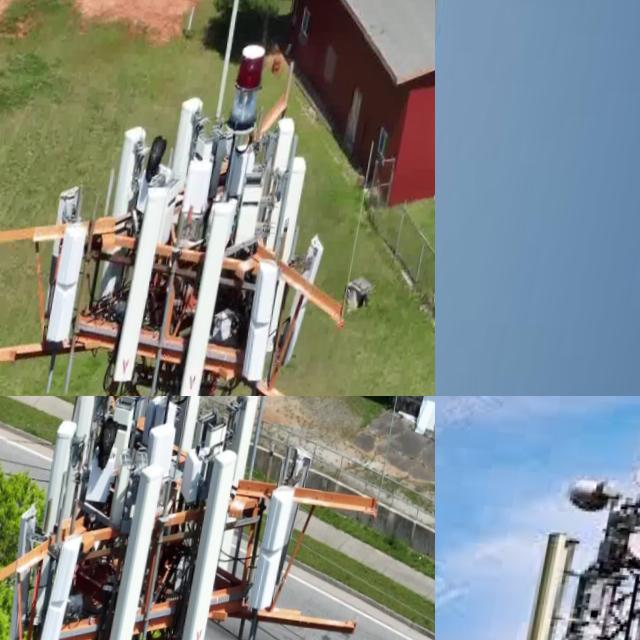GSM Antenna: (110, 183, 175, 396), (183, 444, 250, 640), (180, 195, 244, 396), (106, 454, 173, 640), (282, 225, 343, 377), (517, 530, 592, 640), (237, 256, 292, 396), (46, 214, 102, 347), (253, 480, 305, 622), (2, 494, 47, 640), (277, 153, 324, 261), (41, 418, 82, 539), (108, 116, 153, 226), (43, 531, 88, 640), (64, 396, 111, 488), (225, 396, 266, 491), (166, 97, 206, 188), (52, 176, 91, 265), (177, 156, 222, 224), (435, 0, 457, 132), (266, 120, 302, 191)
Microwave Antenna: (561, 473, 630, 516), (626, 526, 640, 566)
